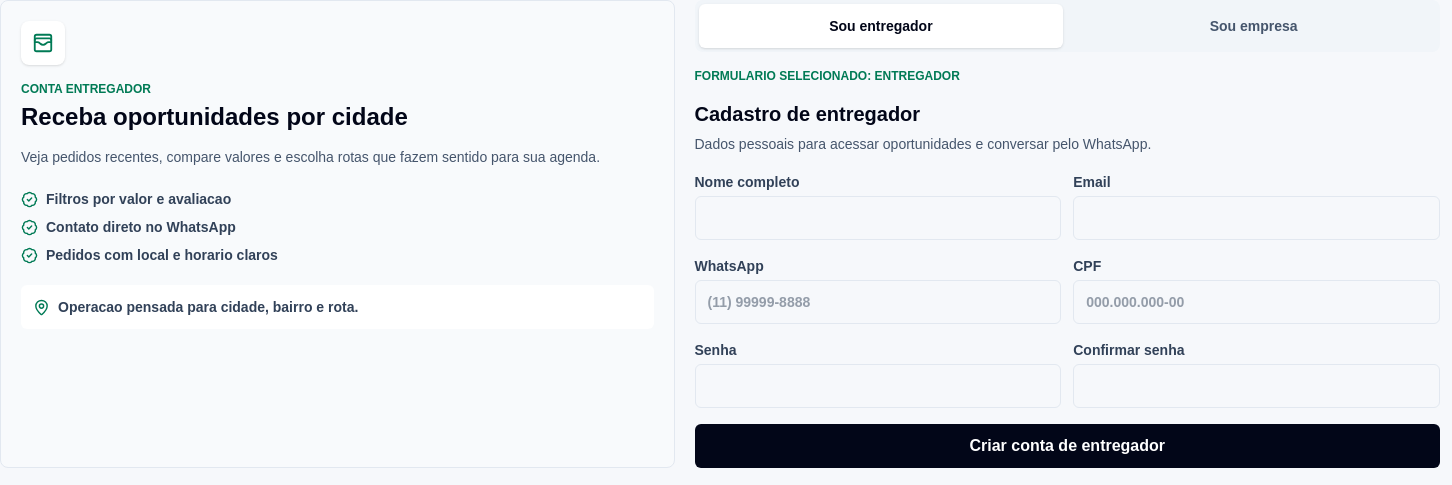
RegisterForm › masks CPF and WhatsApp values while typing
The image size is (1452, 485).
In the field labelled "CPF": (1257, 302) [1073,280,1440,324], type "52998224725"
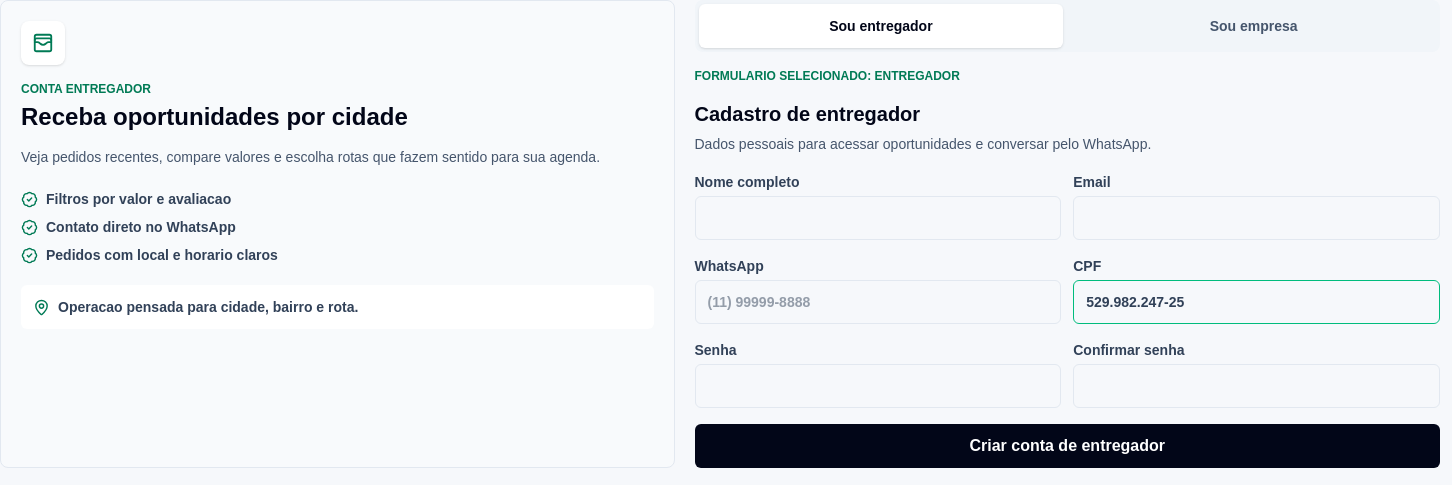
In the field labelled "WhatsApp": (878, 302) [694,280,1061,324], type "11999998888"
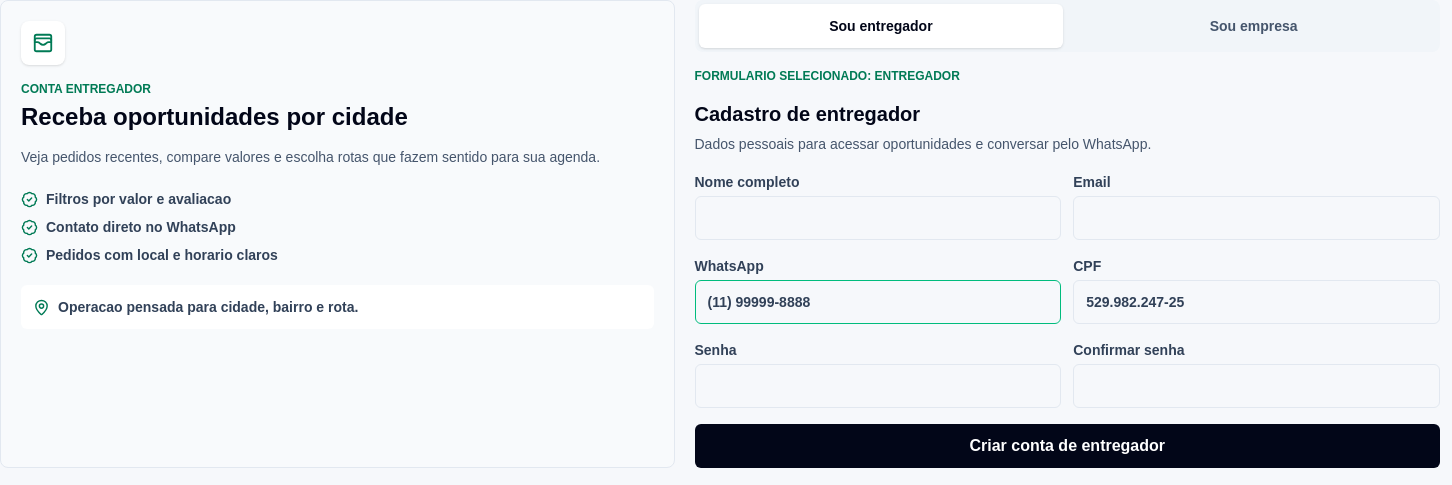
Result: the field labelled "CPF" holds "529.982.247-25" at [1073,280,1440,324]
Result: the field labelled "WhatsApp" holds "(11) 99999-8888" at [694,280,1061,324]
